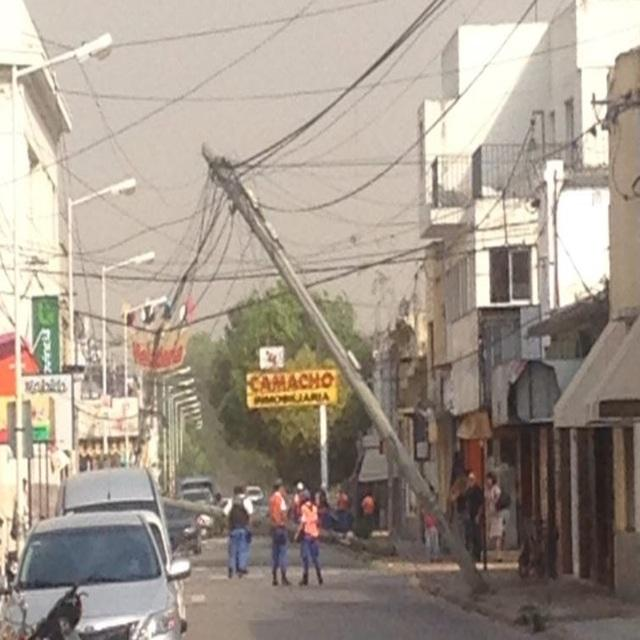Inclined Pole: (196, 138, 502, 603)
